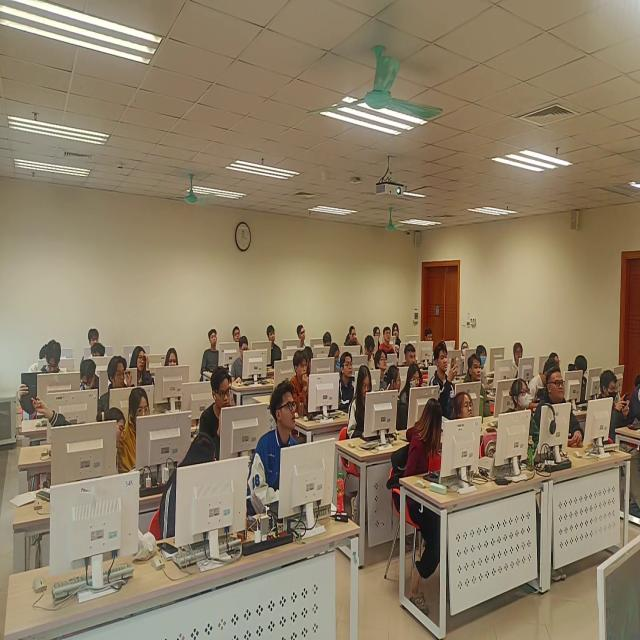raise_head: (540, 368, 581, 447), (449, 393, 486, 463), (506, 378, 542, 449), (293, 352, 325, 415), (462, 358, 492, 410), (108, 359, 139, 401), (130, 347, 157, 395), (203, 328, 230, 374), (165, 347, 189, 394), (340, 355, 359, 408), (264, 325, 283, 370), (374, 350, 391, 384), (345, 324, 364, 354), (292, 324, 313, 349), (382, 329, 396, 361), (85, 331, 107, 350), (232, 327, 243, 344)
using_computer: (168, 440, 234, 552), (124, 389, 173, 477), (204, 370, 254, 454), (32, 344, 80, 409), (354, 368, 385, 443), (78, 361, 109, 403), (236, 345, 267, 386), (566, 355, 592, 400), (363, 340, 379, 372)
using_phone: (597, 372, 633, 443), (431, 346, 461, 406), (402, 365, 425, 413)
